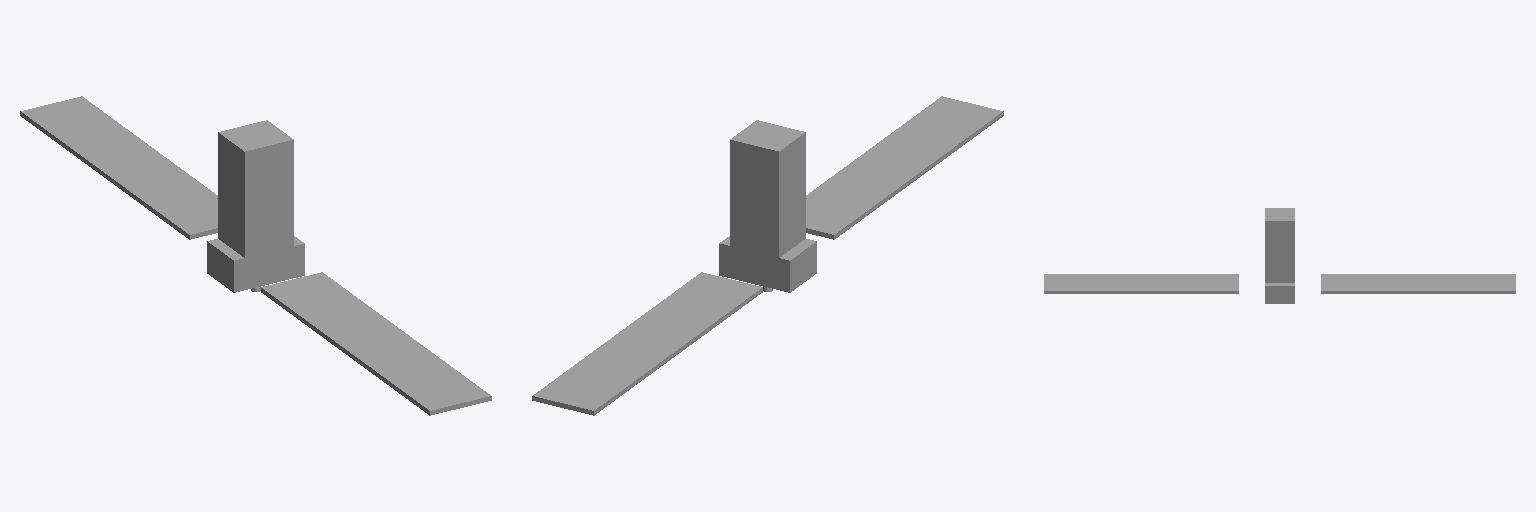
robot.urdf — FREND:
<?xml version="1.0" ?>
<!-- =================================================================================== -->
<!-- |    This document was autogenerated by xacro from /home/medusar/bspin/on_orbit/catkin_ws/src/on_orbit/urdf/simulation/satellite/cv.xacro | -->
<!-- |    EDITING THIS FILE BY HAND IS NOT RECOMMENDED                                 | -->
<!-- =================================================================================== -->
<robot name="FREND">
  <link name="client">
    <visual>
      <origin rpy="0 0 0" xyz="0 0 0"/>
      <geometry>
        <mesh filename="package://on_orbit/urdf/meshes/full_cv.stl" scale="1 1 1"/>
      </geometry>
      <material name="transparent_gray">
        <color rgba="0.7 0.7 0.7 0.5"/>
      </material>
    </visual>
    <inertial>
      <mass value="1050"/>
      <origin rpy="0 0 0" xyz="0 0 0"/>
      <inertia ixx="1792.419738" ixy="0" ixz="0" iyy="2015.632675" iyz="0" izz="630.7312375"/>
    </inertial>
  </link>
  <joint name="client_to_nozzle" type="fixed">
    <parent link="client"/>
    <child link="nozzle"/>
    <origin rpy="0 0 0" xyz="0 0 -1.9897"/>
  </joint>
  <link name="nozzle">
    <inertial>
      <mass value="0"/>
      <origin rpy="0 0 0" xyz="0 0 0"/>
      <inertia ixx="0" ixy="0" ixz="0" iyy="0" iyz="0" izz="0"/>
    </inertial>
  </link>
  <joint name="nozzle_to_capture_box" type="fixed">
    <parent link="nozzle"/>
    <child link="capture_box"/>
    <origin rpy="0 0 0" xyz="0 0 -0.07"/>
  </joint>
  <link name="capture_box">
    <!-- <visual>
      <origin rpy="0 0 0" xyz="0 0 0"/>
      <geometry>
        <box size="0.2 0.2 0.10"/>
      </geometry>
      <material name="transparent_gray">
        <color rgba="${rval} ${gval} ${bval} 0.0"/>
      </material>
    </visual> -->
    <inertial>
      <mass value="0"/>
      <origin rpy="0 0 0" xyz="0 0 0"/>
      <inertia ixx="0" ixy="0" ixz="0" iyy="0" iyz="0" izz="0"/>
    </inertial>
  </link>
  <link name="cone_vertex">
    <inertial>
      <mass value="0"/>
      <origin rpy="0 0 0" xyz="0 0 0"/>
      <inertia ixx="0" ixy="0" ixz="0" iyy="0" iyz="0" izz="0"/>
    </inertial>
  </link>
  <joint name="nozzle_to_cone_vertex" type="fixed">
    <parent link="nozzle"/>
    <child link="cone_vertex"/>
    <origin rpy="0 0 0" xyz="0 0 0.51"/>
  </joint>
  <link name="hole">
    <inertial>
      <mass value="0"/>
      <origin rpy="0 0 0" xyz="0 0 0"/>
      <inertia ixx="0" ixy="0" ixz="0" iyy="0" iyz="0" izz="0"/>
    </inertial>
  </link>
  <joint name="nozzle_to_hole" type="fixed">
    <parent link="nozzle"/>
    <child link="hole"/>
    <origin rpy="0 0 0" xyz="0 0 0.429"/>
  </joint>
  <link name="goal">
    <inertial>
      <mass value="0"/>
      <origin rpy="0 0 0" xyz="0 0 0"/>
      <inertia ixx="0" ixy="0" ixz="0" iyy="0" iyz="0" izz="0"/>
    </inertial>
  </link>
  <joint name="nozzle_to_goal" type="fixed">
    <parent link="nozzle"/>
    <child link="goal"/>
    <origin rpy="0 0 0" xyz="0 0 0.4585"/>
  </joint>
  <link name="hole_end">
    <inertial>
      <mass value="0"/>
      <origin rpy="0 0 0" xyz="0 0 0"/>
      <inertia ixx="0" ixy="0" ixz="0" iyy="0" iyz="0" izz="0"/>
    </inertial>
    <collision>
      <origin rpy="0 0 0" xyz="0 0 0.5"/>
      <geometry>
        <box size="1 1 1"/>
      </geometry>
    </collision>
  </link>
  <joint name="nozzle_to_hole_end" type="fixed">
    <parent link="nozzle"/>
    <child link="hole_end"/>
    <origin rpy="0 0 0" xyz="0 0 0.4785"/>
  </joint>
  <link name="tube_geom0">
    <!--
      <visual>
        <origin rpy="0 0 0" xyz="0 0 0"/>
        <geometry>
          <box size="${tube_wall_width} ${tube_box_width} ${tube_length}"/>
        </geometry>
        <material name="translucent_white">
          <color rgba="1.0 1.0 1.0 0.5"/>
        </material>
      </visual>
      -->
    <inertial>
      <mass value="0"/>
      <origin rpy="0 0 0" xyz="0 0 0"/>
      <inertia ixx="0" ixy="0" ixz="0" iyy="0" iyz="0" izz="0"/>
    </inertial>
    <collision>
      <origin rpy="0 0 0" xyz="0 0 0"/>
      <geometry>
        <box size="0.0066 0.02 0.0445"/>
      </geometry>
    </collision>
  </link>
  <joint name="nozzle_to_tube_geom0" type="fixed">
    <parent link="nozzle"/>
    <child link="tube_geom0"/>
    <origin rpy="0 0 0" xyz="0.0127 0.0 0.45125"/>
  </joint>
  <link name="tube_geom1">
    <!--
      <visual>
        <origin rpy="0 0 0" xyz="0 0 0"/>
        <geometry>
          <box size="${tube_wall_width} ${tube_box_width} ${tube_length}"/>
        </geometry>
        <material name="translucent_white">
          <color rgba="1.0 1.0 1.0 0.5"/>
        </material>
      </visual>
      -->
    <inertial>
      <mass value="0"/>
      <origin rpy="0 0 0" xyz="0 0 0"/>
      <inertia ixx="0" ixy="0" ixz="0" iyy="0" iyz="0" izz="0"/>
    </inertial>
    <collision>
      <origin rpy="0 0 0" xyz="0 0 0"/>
      <geometry>
        <box size="0.0066 0.02 0.0445"/>
      </geometry>
    </collision>
  </link>
  <joint name="nozzle_to_tube_geom1" type="fixed">
    <parent link="nozzle"/>
    <child link="tube_geom1"/>
    <origin rpy="0 0 0.7853981633974483" xyz="0.008980256121069154 0.008980256121069152 0.45125"/>
  </joint>
  <link name="tube_geom2">
    <!--
      <visual>
        <origin rpy="0 0 0" xyz="0 0 0"/>
        <geometry>
          <box size="${tube_wall_width} ${tube_box_width} ${tube_length}"/>
        </geometry>
        <material name="translucent_white">
          <color rgba="1.0 1.0 1.0 0.5"/>
        </material>
      </visual>
      -->
    <inertial>
      <mass value="0"/>
      <origin rpy="0 0 0" xyz="0 0 0"/>
      <inertia ixx="0" ixy="0" ixz="0" iyy="0" iyz="0" izz="0"/>
    </inertial>
    <collision>
      <origin rpy="0 0 0" xyz="0 0 0"/>
      <geometry>
        <box size="0.0066 0.02 0.0445"/>
      </geometry>
    </collision>
  </link>
  <joint name="nozzle_to_tube_geom2" type="fixed">
    <parent link="nozzle"/>
    <child link="tube_geom2"/>
    <origin rpy="0 0 1.5707963267948966" xyz="7.776507174585693e-19 0.0127 0.45125"/>
  </joint>
  <link name="tube_geom3">
    <!--
      <visual>
        <origin rpy="0 0 0" xyz="0 0 0"/>
        <geometry>
          <box size="${tube_wall_width} ${tube_box_width} ${tube_length}"/>
        </geometry>
        <material name="translucent_white">
          <color rgba="1.0 1.0 1.0 0.5"/>
        </material>
      </visual>
      -->
    <inertial>
      <mass value="0"/>
      <origin rpy="0 0 0" xyz="0 0 0"/>
      <inertia ixx="0" ixy="0" ixz="0" iyy="0" iyz="0" izz="0"/>
    </inertial>
    <collision>
      <origin rpy="0 0 0" xyz="0 0 0"/>
      <geometry>
        <box size="0.0066 0.02 0.0445"/>
      </geometry>
    </collision>
  </link>
  <joint name="nozzle_to_tube_geom3" type="fixed">
    <parent link="nozzle"/>
    <child link="tube_geom3"/>
    <origin rpy="0 0 2.356194490192345" xyz="-0.008980256121069152 0.008980256121069154 0.45125"/>
  </joint>
  <link name="tube_geom4">
    <!--
      <visual>
        <origin rpy="0 0 0" xyz="0 0 0"/>
        <geometry>
          <box size="${tube_wall_width} ${tube_box_width} ${tube_length}"/>
        </geometry>
        <material name="translucent_white">
          <color rgba="1.0 1.0 1.0 0.5"/>
        </material>
      </visual>
      -->
    <inertial>
      <mass value="0"/>
      <origin rpy="0 0 0" xyz="0 0 0"/>
      <inertia ixx="0" ixy="0" ixz="0" iyy="0" iyz="0" izz="0"/>
    </inertial>
    <collision>
      <origin rpy="0 0 0" xyz="0 0 0"/>
      <geometry>
        <box size="0.0066 0.02 0.0445"/>
      </geometry>
    </collision>
  </link>
  <joint name="nozzle_to_tube_geom4" type="fixed">
    <parent link="nozzle"/>
    <child link="tube_geom4"/>
    <origin rpy="0 0 3.141592653589793" xyz="-0.0127 1.5553014349171385e-18 0.45125"/>
  </joint>
  <link name="tube_geom5">
    <!--
      <visual>
        <origin rpy="0 0 0" xyz="0 0 0"/>
        <geometry>
          <box size="${tube_wall_width} ${tube_box_width} ${tube_length}"/>
        </geometry>
        <material name="translucent_white">
          <color rgba="1.0 1.0 1.0 0.5"/>
        </material>
      </visual>
      -->
    <inertial>
      <mass value="0"/>
      <origin rpy="0 0 0" xyz="0 0 0"/>
      <inertia ixx="0" ixy="0" ixz="0" iyy="0" iyz="0" izz="0"/>
    </inertial>
    <collision>
      <origin rpy="0 0 0" xyz="0 0 0"/>
      <geometry>
        <box size="0.0066 0.02 0.0445"/>
      </geometry>
    </collision>
  </link>
  <joint name="nozzle_to_tube_geom5" type="fixed">
    <parent link="nozzle"/>
    <child link="tube_geom5"/>
    <origin rpy="0 0 3.9269908169872414" xyz="-0.008980256121069155 -0.008980256121069152 0.45125"/>
  </joint>
  <link name="tube_geom6">
    <!--
      <visual>
        <origin rpy="0 0 0" xyz="0 0 0"/>
        <geometry>
          <box size="${tube_wall_width} ${tube_box_width} ${tube_length}"/>
        </geometry>
        <material name="translucent_white">
          <color rgba="1.0 1.0 1.0 0.5"/>
        </material>
      </visual>
      -->
    <inertial>
      <mass value="0"/>
      <origin rpy="0 0 0" xyz="0 0 0"/>
      <inertia ixx="0" ixy="0" ixz="0" iyy="0" iyz="0" izz="0"/>
    </inertial>
    <collision>
      <origin rpy="0 0 0" xyz="0 0 0"/>
      <geometry>
        <box size="0.0066 0.02 0.0445"/>
      </geometry>
    </collision>
  </link>
  <joint name="nozzle_to_tube_geom6" type="fixed">
    <parent link="nozzle"/>
    <child link="tube_geom6"/>
    <origin rpy="0 0 4.71238898038469" xyz="-2.3329521523757078e-18 -0.0127 0.45125"/>
  </joint>
  <link name="tube_geom7">
    <!--
      <visual>
        <origin rpy="0 0 0" xyz="0 0 0"/>
        <geometry>
          <box size="${tube_wall_width} ${tube_box_width} ${tube_length}"/>
        </geometry>
        <material name="translucent_white">
          <color rgba="1.0 1.0 1.0 0.5"/>
        </material>
      </visual>
      -->
    <inertial>
      <mass value="0"/>
      <origin rpy="0 0 0" xyz="0 0 0"/>
      <inertia ixx="0" ixy="0" ixz="0" iyy="0" iyz="0" izz="0"/>
    </inertial>
    <collision>
      <origin rpy="0 0 0" xyz="0 0 0"/>
      <geometry>
        <box size="0.0066 0.02 0.0445"/>
      </geometry>
    </collision>
  </link>
  <joint name="nozzle_to_tube_geom7" type="fixed">
    <parent link="nozzle"/>
    <child link="tube_geom7"/>
    <origin rpy="0 0 5.497787143782138" xyz="0.00898025612106915 -0.008980256121069155 0.45125"/>
  </joint>
  <link name="nozzle_geom0">
    <!-- <visual>
        <origin rpy="0 0 0" xyz="0 0 0"/>
        <geometry>
          <box size="${nozzle_wall_width} ${nozzle_box_width} ${nozzle_geom_length}"/>
        </geometry>
        <material name="translucent_white">
          <color rgba="1.0 1.0 1.0 0.5"/>
        </material>
      </visual> -->
    <inertial>
      <mass value="0"/>
      <origin rpy="0 0 0" xyz="0 0 0"/>
      <inertia ixx="0" ixy="0" ixz="0" iyy="0" iyz="0" izz="0"/>
    </inertial>
    <collision>
      <origin rpy="0 0 0" xyz="0 0 0"/>
      <geometry>
        <box size="0.005 0.125 0.44712"/>
      </geometry>
    </collision>
  </link>
  <joint name="nozzle_to_nozzle_geom0" type="fixed">
    <parent link="nozzle"/>
    <child link="nozzle_geom0"/>
    <origin rpy="0 -0.285672797 0" xyz="0.0765 0.0 0.21590863670784355"/>
  </joint>
  <link name="nozzle_rim0">
    <inertial>
      <mass value="0"/>
      <origin rpy="0 0 0" xyz="0 0 0"/>
      <inertia ixx="0" ixy="0" ixz="0" iyy="0" iyz="0" izz="0"/>
    </inertial>
  </link>
  <joint name="nozzle_to_nozzle_rim0" type="fixed">
    <parent link="nozzle"/>
    <child link="nozzle_rim0"/>
    <origin rpy="0 -0.285672797 0" xyz="0.13699999999999998 0.0 0"/>
  </joint>
  <link name="nozzle_geom1">
    <!-- <visual>
        <origin rpy="0 0 0" xyz="0 0 0"/>
        <geometry>
          <box size="${nozzle_wall_width} ${nozzle_box_width} ${nozzle_geom_length}"/>
        </geometry>
        <material name="translucent_white">
          <color rgba="1.0 1.0 1.0 0.5"/>
        </material>
      </visual> -->
    <inertial>
      <mass value="0"/>
      <origin rpy="0 0 0" xyz="0 0 0"/>
      <inertia ixx="0" ixy="0" ixz="0" iyy="0" iyz="0" izz="0"/>
    </inertial>
    <collision>
      <origin rpy="0 0 0" xyz="0 0 0"/>
      <geometry>
        <box size="0.005 0.125 0.44712"/>
      </geometry>
    </collision>
  </link>
  <joint name="nozzle_to_nozzle_geom1" type="fixed">
    <parent link="nozzle"/>
    <child link="nozzle_geom1"/>
    <origin rpy="0 -0.285672797 0.7853981633974483" xyz="0.05409366876077089 0.05409366876077088 0.21590863670784355"/>
  </joint>
  <link name="nozzle_rim1">
    <inertial>
      <mass value="0"/>
      <origin rpy="0 0 0" xyz="0 0 0"/>
      <inertia ixx="0" ixy="0" ixz="0" iyy="0" iyz="0" izz="0"/>
    </inertial>
  </link>
  <joint name="nozzle_to_nozzle_rim1" type="fixed">
    <parent link="nozzle"/>
    <child link="nozzle_rim1"/>
    <origin rpy="0 -0.285672797 0.7853981633974483" xyz="0.096873629022557 0.09687362902255699 0"/>
  </joint>
  <link name="nozzle_geom2">
    <!-- <visual>
        <origin rpy="0 0 0" xyz="0 0 0"/>
        <geometry>
          <box size="${nozzle_wall_width} ${nozzle_box_width} ${nozzle_geom_length}"/>
        </geometry>
        <material name="translucent_white">
          <color rgba="1.0 1.0 1.0 0.5"/>
        </material>
      </visual> -->
    <inertial>
      <mass value="0"/>
      <origin rpy="0 0 0" xyz="0 0 0"/>
      <inertia ixx="0" ixy="0" ixz="0" iyy="0" iyz="0" izz="0"/>
    </inertial>
    <collision>
      <origin rpy="0 0 0" xyz="0 0 0"/>
      <geometry>
        <box size="0.005 0.125 0.44712"/>
      </geometry>
    </collision>
  </link>
  <joint name="nozzle_to_nozzle_geom2" type="fixed">
    <parent link="nozzle"/>
    <child link="nozzle_geom2"/>
    <origin rpy="0 -0.285672797 1.5707963267948966" xyz="4.684274006738626e-18 0.0765 0.21590863670784355"/>
  </joint>
  <link name="nozzle_rim2">
    <inertial>
      <mass value="0"/>
      <origin rpy="0 0 0" xyz="0 0 0"/>
      <inertia ixx="0" ixy="0" ixz="0" iyy="0" iyz="0" izz="0"/>
    </inertial>
  </link>
  <joint name="nozzle_to_nozzle_rim2" type="fixed">
    <parent link="nozzle"/>
    <child link="nozzle_rim2"/>
    <origin rpy="0 -0.285672797 1.5707963267948966" xyz="8.388830574159368e-18 0.13699999999999998 0"/>
  </joint>
  <link name="nozzle_geom3">
    <!-- <visual>
        <origin rpy="0 0 0" xyz="0 0 0"/>
        <geometry>
          <box size="${nozzle_wall_width} ${nozzle_box_width} ${nozzle_geom_length}"/>
        </geometry>
        <material name="translucent_white">
          <color rgba="1.0 1.0 1.0 0.5"/>
        </material>
      </visual> -->
    <inertial>
      <mass value="0"/>
      <origin rpy="0 0 0" xyz="0 0 0"/>
      <inertia ixx="0" ixy="0" ixz="0" iyy="0" iyz="0" izz="0"/>
    </inertial>
    <collision>
      <origin rpy="0 0 0" xyz="0 0 0"/>
      <geometry>
        <box size="0.005 0.125 0.44712"/>
      </geometry>
    </collision>
  </link>
  <joint name="nozzle_to_nozzle_geom3" type="fixed">
    <parent link="nozzle"/>
    <child link="nozzle_geom3"/>
    <origin rpy="0 -0.285672797 2.356194490192345" xyz="-0.05409366876077088 0.05409366876077089 0.21590863670784355"/>
  </joint>
  <link name="nozzle_rim3">
    <inertial>
      <mass value="0"/>
      <origin rpy="0 0 0" xyz="0 0 0"/>
      <inertia ixx="0" ixy="0" ixz="0" iyy="0" iyz="0" izz="0"/>
    </inertial>
  </link>
  <joint name="nozzle_to_nozzle_rim3" type="fixed">
    <parent link="nozzle"/>
    <child link="nozzle_rim3"/>
    <origin rpy="0 -0.285672797 2.356194490192345" xyz="-0.09687362902255699 0.096873629022557 0"/>
  </joint>
  <link name="nozzle_geom4">
    <!-- <visual>
        <origin rpy="0 0 0" xyz="0 0 0"/>
        <geometry>
          <box size="${nozzle_wall_width} ${nozzle_box_width} ${nozzle_geom_length}"/>
        </geometry>
        <material name="translucent_white">
          <color rgba="1.0 1.0 1.0 0.5"/>
        </material>
      </visual> -->
    <inertial>
      <mass value="0"/>
      <origin rpy="0 0 0" xyz="0 0 0"/>
      <inertia ixx="0" ixy="0" ixz="0" iyy="0" iyz="0" izz="0"/>
    </inertial>
    <collision>
      <origin rpy="0 0 0" xyz="0 0 0"/>
      <geometry>
        <box size="0.005 0.125 0.44712"/>
      </geometry>
    </collision>
  </link>
  <joint name="nozzle_to_nozzle_geom4" type="fixed">
    <parent link="nozzle"/>
    <child link="nozzle_geom4"/>
    <origin rpy="0 -0.285672797 3.141592653589793" xyz="-0.0765 9.368548013477251e-18 0.21590863670784355"/>
  </joint>
  <link name="nozzle_rim4">
    <inertial>
      <mass value="0"/>
      <origin rpy="0 0 0" xyz="0 0 0"/>
      <inertia ixx="0" ixy="0" ixz="0" iyy="0" iyz="0" izz="0"/>
    </inertial>
  </link>
  <joint name="nozzle_to_nozzle_rim4" type="fixed">
    <parent link="nozzle"/>
    <child link="nozzle_rim4"/>
    <origin rpy="0 -0.285672797 3.141592653589793" xyz="-0.13699999999999998 1.6777661148318736e-17 0"/>
  </joint>
  <link name="nozzle_geom5">
    <!-- <visual>
        <origin rpy="0 0 0" xyz="0 0 0"/>
        <geometry>
          <box size="${nozzle_wall_width} ${nozzle_box_width} ${nozzle_geom_length}"/>
        </geometry>
        <material name="translucent_white">
          <color rgba="1.0 1.0 1.0 0.5"/>
        </material>
      </visual> -->
    <inertial>
      <mass value="0"/>
      <origin rpy="0 0 0" xyz="0 0 0"/>
      <inertia ixx="0" ixy="0" ixz="0" iyy="0" iyz="0" izz="0"/>
    </inertial>
    <collision>
      <origin rpy="0 0 0" xyz="0 0 0"/>
      <geometry>
        <box size="0.005 0.125 0.44712"/>
      </geometry>
    </collision>
  </link>
  <joint name="nozzle_to_nozzle_geom5" type="fixed">
    <parent link="nozzle"/>
    <child link="nozzle_geom5"/>
    <origin rpy="0 -0.285672797 3.9269908169872414" xyz="-0.054093668760770895 -0.05409366876077088 0.21590863670784355"/>
  </joint>
  <link name="nozzle_rim5">
    <inertial>
      <mass value="0"/>
      <origin rpy="0 0 0" xyz="0 0 0"/>
      <inertia ixx="0" ixy="0" ixz="0" iyy="0" iyz="0" izz="0"/>
    </inertial>
  </link>
  <joint name="nozzle_to_nozzle_rim5" type="fixed">
    <parent link="nozzle"/>
    <child link="nozzle_rim5"/>
    <origin rpy="0 -0.285672797 3.9269908169872414" xyz="-0.09687362902255701 -0.09687362902255699 0"/>
  </joint>
  <link name="nozzle_geom6">
    <!-- <visual>
        <origin rpy="0 0 0" xyz="0 0 0"/>
        <geometry>
          <box size="${nozzle_wall_width} ${nozzle_box_width} ${nozzle_geom_length}"/>
        </geometry>
        <material name="translucent_white">
          <color rgba="1.0 1.0 1.0 0.5"/>
        </material>
      </visual> -->
    <inertial>
      <mass value="0"/>
      <origin rpy="0 0 0" xyz="0 0 0"/>
      <inertia ixx="0" ixy="0" ixz="0" iyy="0" iyz="0" izz="0"/>
    </inertial>
    <collision>
      <origin rpy="0 0 0" xyz="0 0 0"/>
      <geometry>
        <box size="0.005 0.125 0.44712"/>
      </geometry>
    </collision>
  </link>
  <joint name="nozzle_to_nozzle_geom6" type="fixed">
    <parent link="nozzle"/>
    <child link="nozzle_geom6"/>
    <origin rpy="0 -0.285672797 4.71238898038469" xyz="-1.4052822020215878e-17 -0.0765 0.21590863670784355"/>
  </joint>
  <link name="nozzle_rim6">
    <inertial>
      <mass value="0"/>
      <origin rpy="0 0 0" xyz="0 0 0"/>
      <inertia ixx="0" ixy="0" ixz="0" iyy="0" iyz="0" izz="0"/>
    </inertial>
  </link>
  <joint name="nozzle_to_nozzle_rim6" type="fixed">
    <parent link="nozzle"/>
    <child link="nozzle_rim6"/>
    <origin rpy="0 -0.285672797 4.71238898038469" xyz="-2.5166491722478105e-17 -0.13699999999999998 0"/>
  </joint>
  <link name="nozzle_geom7">
    <!-- <visual>
        <origin rpy="0 0 0" xyz="0 0 0"/>
        <geometry>
          <box size="${nozzle_wall_width} ${nozzle_box_width} ${nozzle_geom_length}"/>
        </geometry>
        <material name="translucent_white">
          <color rgba="1.0 1.0 1.0 0.5"/>
        </material>
      </visual> -->
    <inertial>
      <mass value="0"/>
      <origin rpy="0 0 0" xyz="0 0 0"/>
      <inertia ixx="0" ixy="0" ixz="0" iyy="0" iyz="0" izz="0"/>
    </inertial>
    <collision>
      <origin rpy="0 0 0" xyz="0 0 0"/>
      <geometry>
        <box size="0.005 0.125 0.44712"/>
      </geometry>
    </collision>
  </link>
  <joint name="nozzle_to_nozzle_geom7" type="fixed">
    <parent link="nozzle"/>
    <child link="nozzle_geom7"/>
    <origin rpy="0 -0.285672797 5.497787143782138" xyz="0.054093668760770874 -0.054093668760770895 0.21590863670784355"/>
  </joint>
  <link name="nozzle_rim7">
    <inertial>
      <mass value="0"/>
      <origin rpy="0 0 0" xyz="0 0 0"/>
      <inertia ixx="0" ixy="0" ixz="0" iyy="0" iyz="0" izz="0"/>
    </inertial>
  </link>
  <joint name="nozzle_to_nozzle_rim7" type="fixed">
    <parent link="nozzle"/>
    <child link="nozzle_rim7"/>
    <origin rpy="0 -0.285672797 5.497787143782138" xyz="0.09687362902255697 -0.09687362902255701 0"/>
  </joint>
</robot>

--- Facts derived from the render (not from the file) ---
The picture shows the robot from 3 angles, left to right: view 1: azimuth 30°, elevation 25°; view 2: azimuth 150°, elevation 25°; view 3: azimuth 270°, elevation 25°; orthographic projection.
Model FREND with 31 links and 30 joints (30 fixed), rooted at client, posed all joints at 0.
Links seen in each view (by area): view 1: client; view 2: client; view 3: client.
Link boxes in pixels (left/top/right/bottom): client: left=20, top=96, right=491, bottom=415; client: left=532, top=96, right=1003, bottom=415; client: left=1044, top=208, right=1515, bottom=303.
Size in the robot's own frame: 2.3 by 23 by 4.78 metres.
1 mesh visuals loaded from 1 distinct referenced files (1 binary STL).
